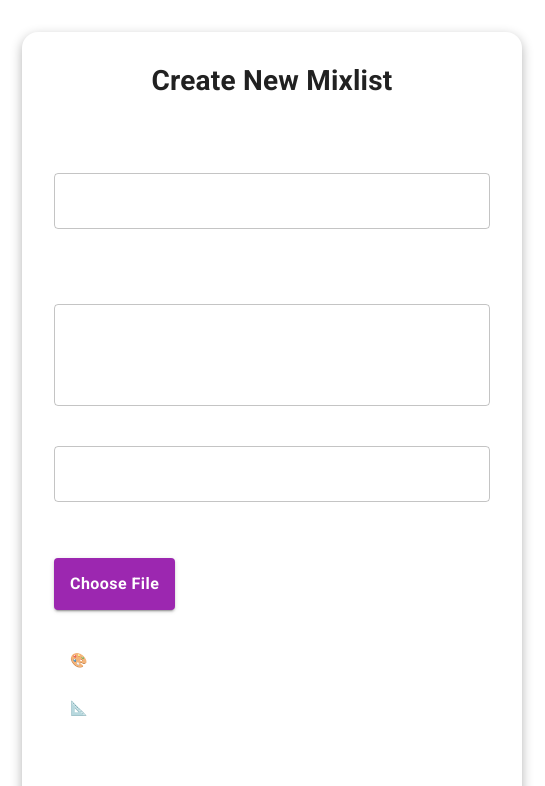
Scenario: CreateMixlistForm › Form Submission › should handle empty name validation
The width and height of the screenshot is (545, 786).
Fill in a name
Step 1. Type "Test Name" into the field with placeholder "Enter mixlist name..." → (272, 201), box top-left (54, 173), bottom-right (490, 229)
(page scrolled)
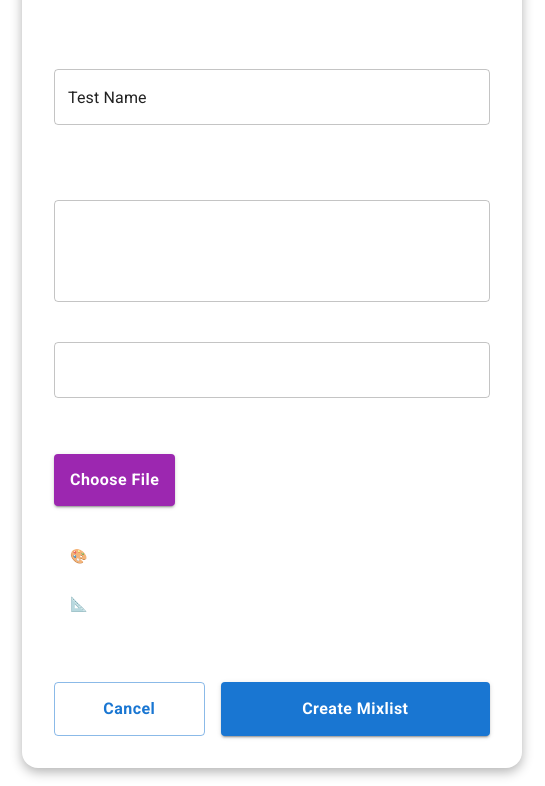
expect the button "Create Mixlist" is enabled: met, box top-left (221, 682), bottom-right (490, 736)
